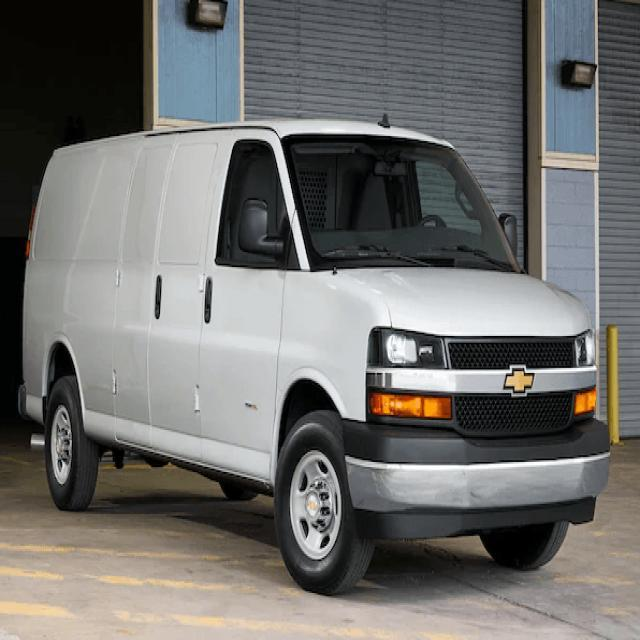truck: (17, 111, 611, 595)
